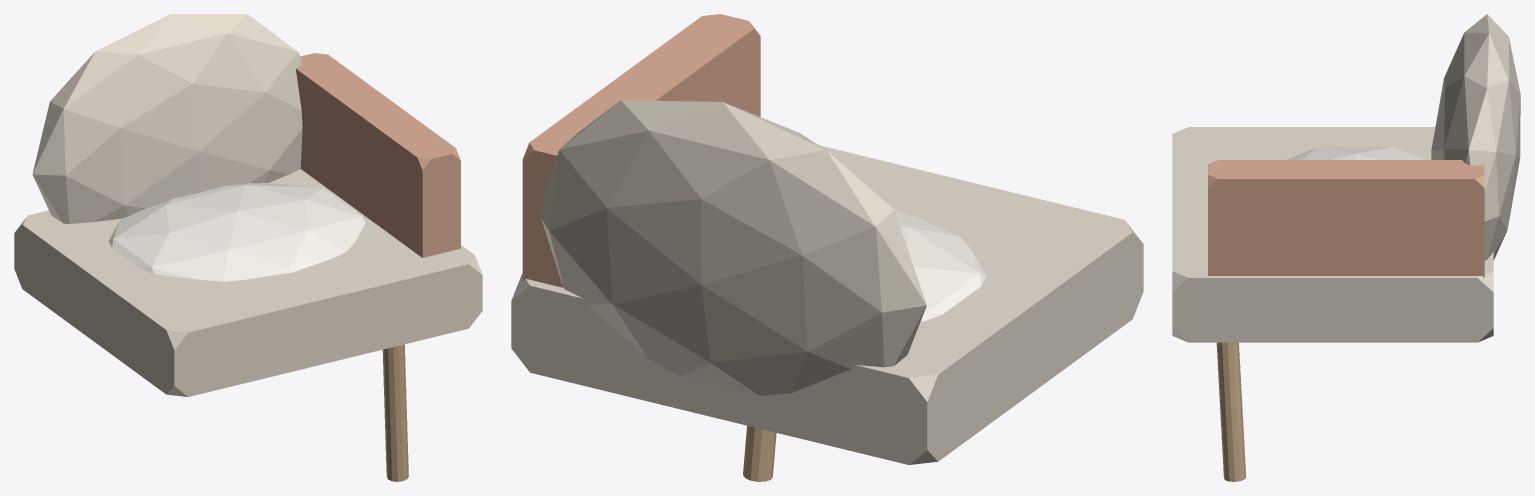
File: accent_chair_low.glb
3 views of the same model, side by side, from view 1: azimuth 30°, elevation 25°; view 2: azimuth 150°, elevation 25°; view 3: azimuth 270°, elevation 25° (orthographic). The views are drawn at different scales.
Parts seen in each view (by area): view 1: FABRIC_MAIN_seat, FABRIC_MAIN_back, FABRIC_ACCENT_arm, FABRIC_LIGHT_pad, WOOD_DARK_leg; view 2: FABRIC_MAIN_back, FABRIC_MAIN_seat, FABRIC_ACCENT_arm, FABRIC_LIGHT_pad, WOOD_DARK_leg; view 3: FABRIC_MAIN_seat, FABRIC_ACCENT_arm, FABRIC_MAIN_back, WOOD_DARK_leg, FABRIC_LIGHT_pad.
Part boxes in pixels (box(x1,y1,x2,y2)): FABRIC_MAIN_seat: box(14, 169, 482, 396); FABRIC_MAIN_back: box(32, 14, 302, 223); FABRIC_ACCENT_arm: box(295, 53, 460, 257); FABRIC_LIGHT_pad: box(109, 183, 365, 281); WOOD_DARK_leg: box(382, 344, 408, 481); FABRIC_MAIN_back: box(541, 100, 926, 395); FABRIC_MAIN_seat: box(511, 145, 1143, 464); FABRIC_ACCENT_arm: box(522, 14, 760, 287); FABRIC_LIGHT_pad: box(893, 208, 985, 321); WOOD_DARK_leg: box(743, 425, 776, 481); FABRIC_MAIN_seat: box(1172, 127, 1493, 342); FABRIC_ACCENT_arm: box(1208, 160, 1484, 277); FABRIC_MAIN_back: box(1431, 14, 1520, 260); WOOD_DARK_leg: box(1216, 342, 1245, 481); FABRIC_LIGHT_pad: box(1286, 147, 1424, 159).
Bounding box in the file's own units: 0.8 × 0.9798 × 0.7804.
